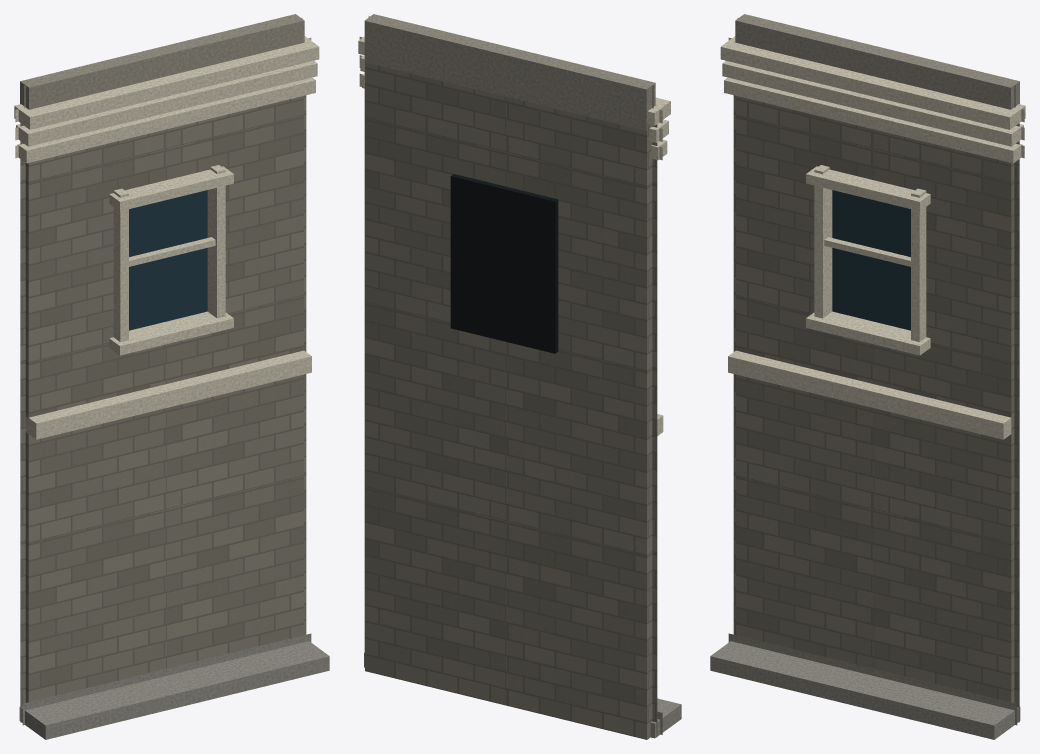
The model's file is WRHS7_lod2.glb.
The picture shows the model from 3 angles, left to right: view 1: azimuth 30°, elevation 25°; view 2: azimuth 150°, elevation 25°; view 3: azimuth 330°, elevation 25°; orthographic projection. The views are drawn at different scales.
Visible parts, largest first — view 1: WRHS7_FRONT_LOD2; view 2: WRHS7_FRONT_LOD2; view 3: WRHS7_FRONT_LOD2.
Part boxes in pixels (x1,y1,x2,y2): WRHS7_FRONT_LOD2: (14,14,329,739); WRHS7_FRONT_LOD2: (358,14,681,739); WRHS7_FRONT_LOD2: (710,14,1025,739).
Size of the model in its own units: 3.44 by 7.05 by 0.65.
7 materials, 5 textured.
